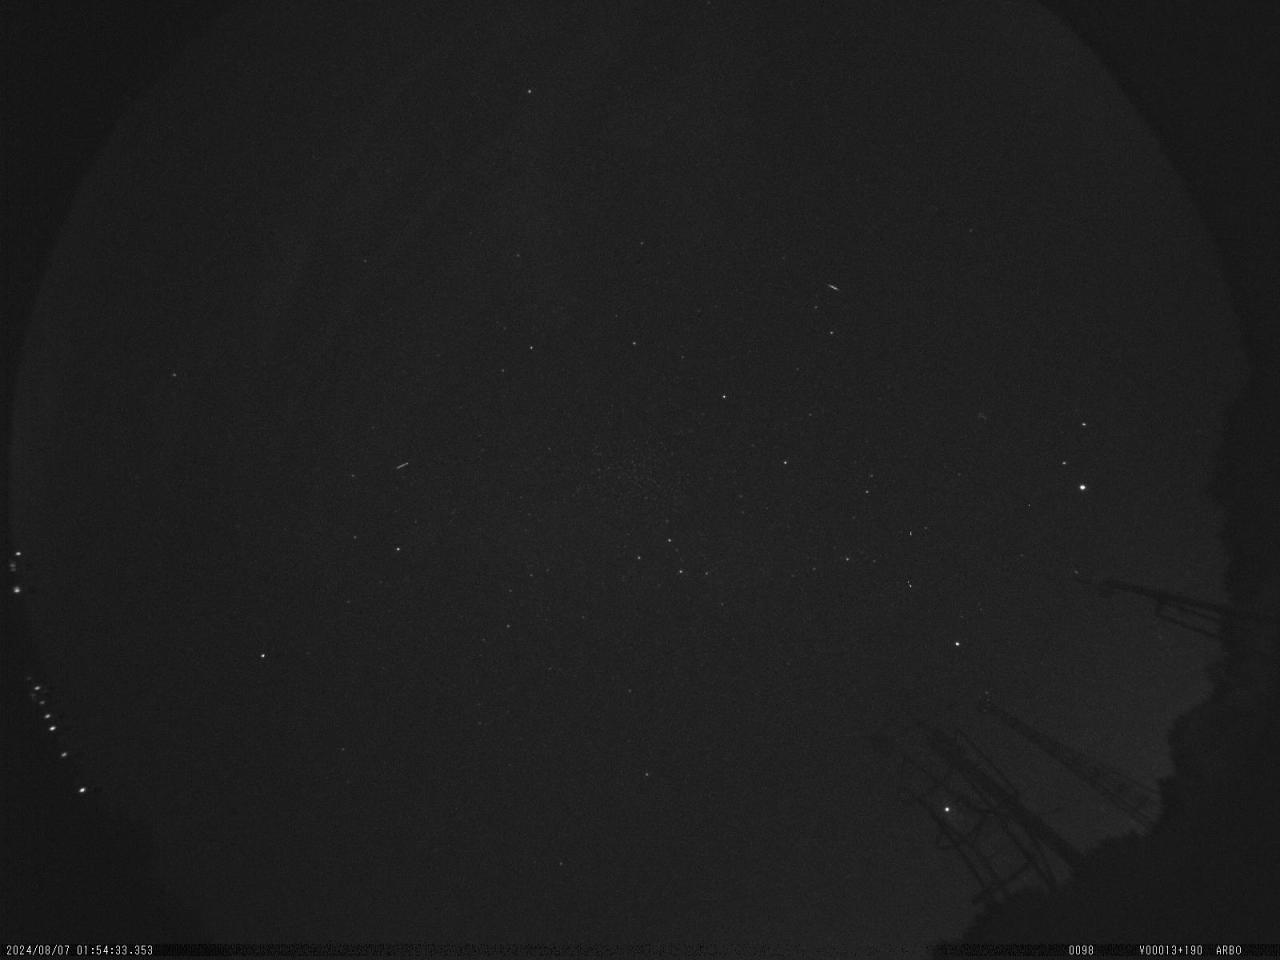Meteor: (822, 278, 841, 297)
